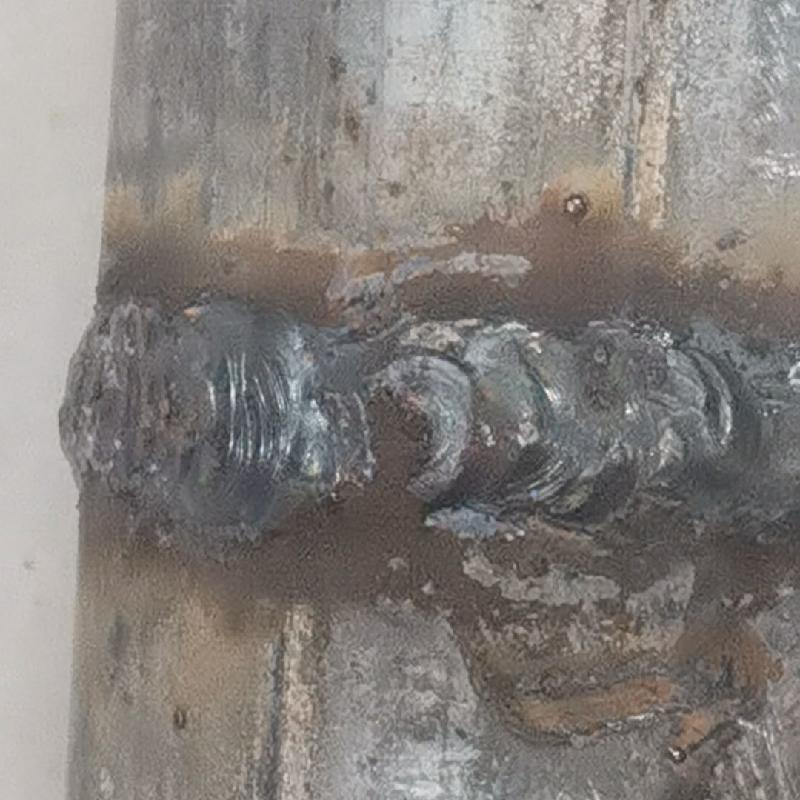good: (31, 280, 799, 528)
